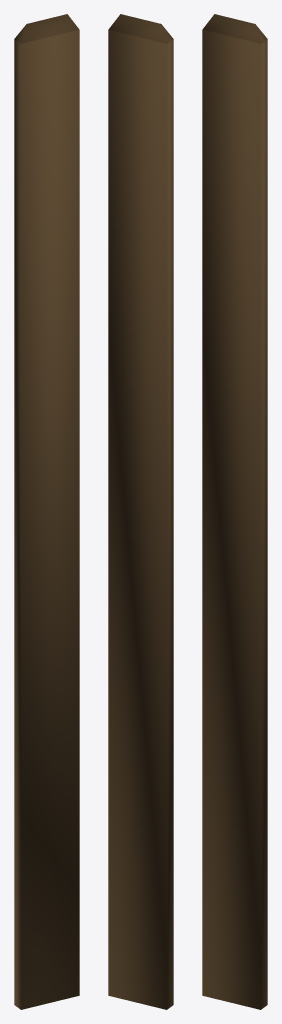
Rendered from tall_fence_board.glb.
The picture shows the model from 3 angles, left to right: view 1: azimuth 30°, elevation 25°; view 2: azimuth 150°, elevation 25°; view 3: azimuth 330°, elevation 25°; orthographic projection.
Visible parts, largest first — view 1: tall_fence_board; view 2: tall_fence_board; view 3: tall_fence_board.
Boxes of the visible parts, x1,y1,x2,y2 form: tall_fence_board: (14, 14, 79, 1009); tall_fence_board: (108, 14, 173, 1009); tall_fence_board: (202, 14, 267, 1009).
Bounding box in the file's own units: 0.1 × 1.61 × 0.02.
